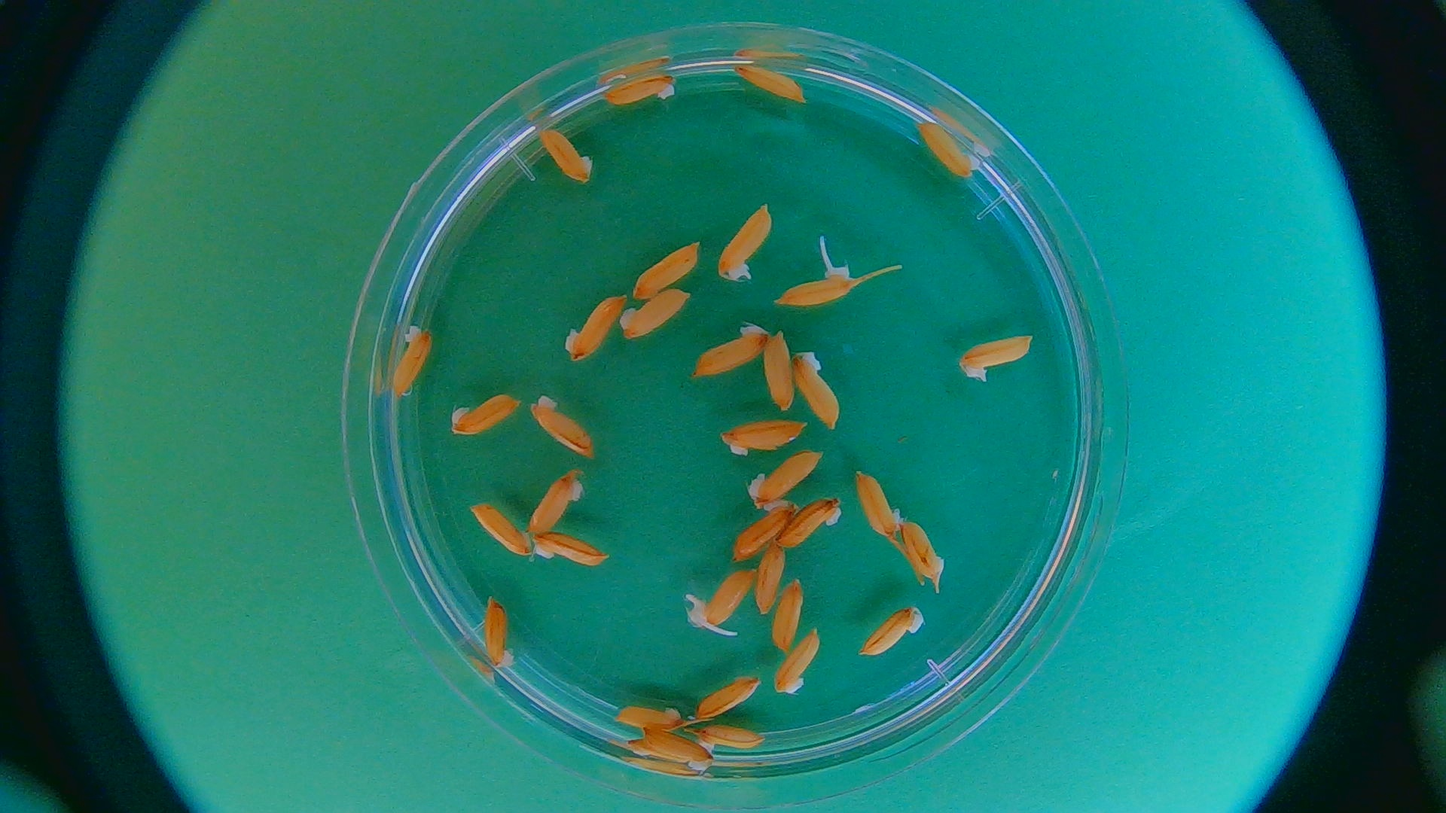no: (732, 501, 804, 562), (749, 451, 822, 506), (529, 394, 593, 455), (565, 294, 624, 359), (918, 121, 983, 178), (697, 324, 767, 376), (634, 245, 698, 300), (621, 287, 688, 338), (862, 604, 926, 657), (795, 352, 838, 430), (960, 336, 1030, 382), (530, 473, 581, 534), (778, 499, 841, 548), (538, 129, 593, 184), (775, 629, 822, 693), (734, 65, 808, 105), (471, 506, 530, 556), (392, 324, 432, 397), (695, 674, 760, 718), (900, 522, 946, 583), (721, 420, 805, 452), (859, 473, 902, 535), (451, 394, 517, 434), (645, 730, 712, 769), (752, 546, 788, 616), (533, 534, 607, 568), (603, 74, 676, 105), (764, 333, 793, 411), (772, 580, 802, 650), (486, 599, 512, 667), (612, 706, 685, 728)
yes: (692, 565, 751, 632), (721, 206, 773, 277), (777, 269, 856, 311)
